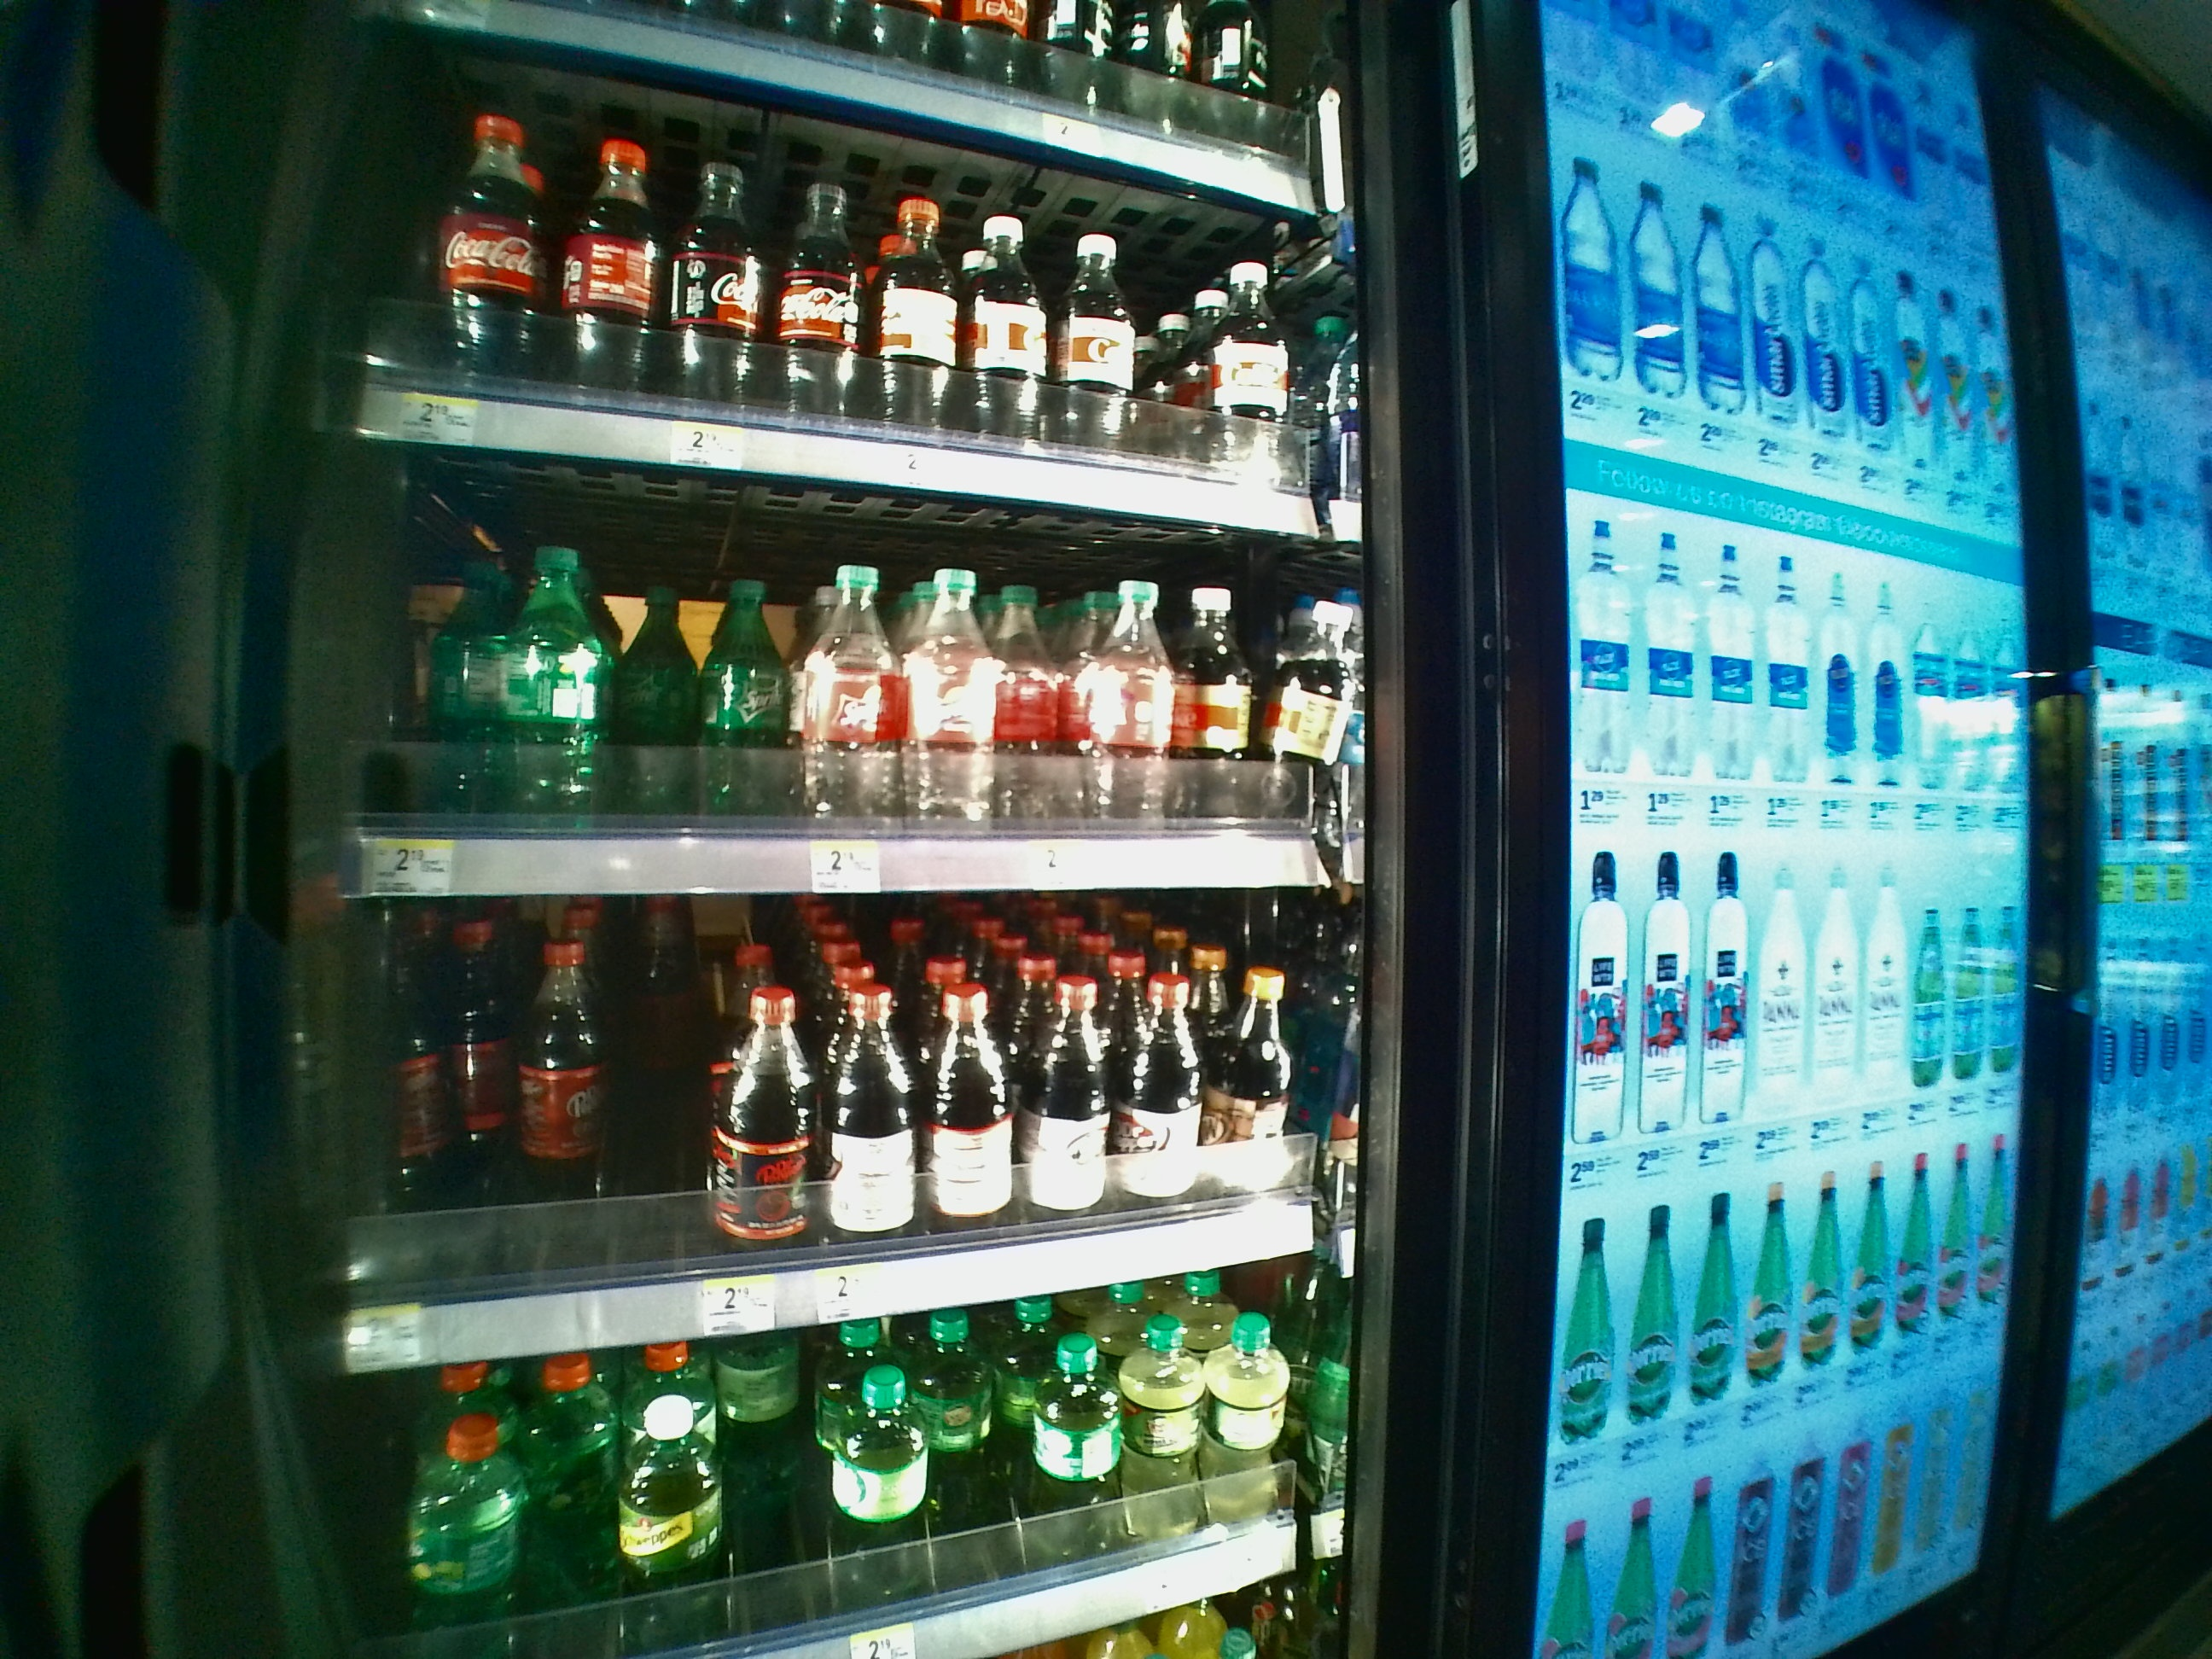shelf: (336, 437, 1383, 904)
